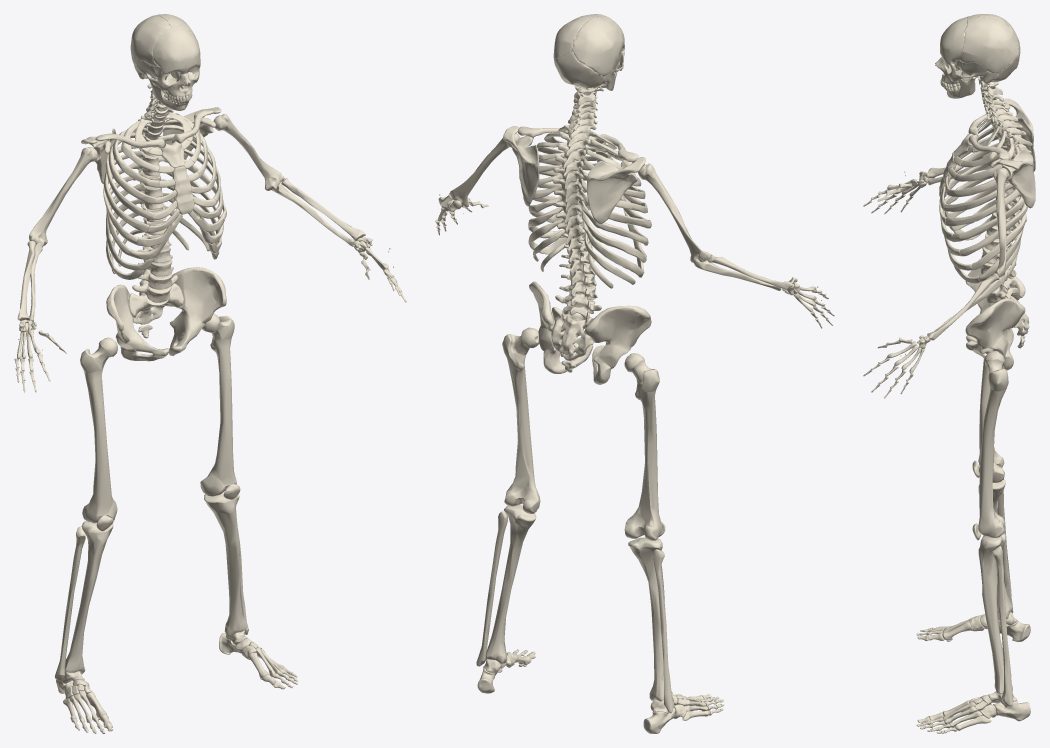
File: skeleton.glb
3 views of the same model, side by side, from view 1: azimuth 30°, elevation 25°; view 2: azimuth 150°, elevation 25°; view 3: azimuth 270°, elevation 25° (orthographic). The views are drawn at different scales.
Parts seen in each view (by area): view 1: Femur.r, Femur.l, Hip bone.l, Tibia.l, Tibia.r, Hip bone.r, Frontal bone, Parietal bone right, Humerus.r, Sacrum, Humerus.l, Fibula.r (+3 smaller); view 2: Femur.r, Femur.l, Hip bone.r, Tibia.l, Scapula.r., Parietal bone right, Tibia.r, Sacrum, Hip bone.l, Scapula.l, Humerus.r, Fibula.r (+4 smaller); view 3: Femur.l, Parietal bone left, Hip bone.l, Tibia.l, Scapula.l, Fibula.l, Humerus.l, Femur.r, Frontal bone, Hip bone.r, Scapula.r., Radius.l (+19 smaller).
Part boxes in pixels (left/top/right/bottom): Femur.r: left=80, top=337, right=117, bottom=523; Femur.l: left=200, top=314, right=236, bottom=496; Hip bone.l: left=169, top=267, right=226, bottom=355; Tibia.l: left=204, top=491, right=247, bottom=637; Tibia.r: left=65, top=521, right=113, bottom=674; Hip bone.r: left=106, top=284, right=169, bottom=361; Frontal bone: left=153, top=25, right=200, bottom=74; Parietal bone right: left=130, top=15, right=171, bottom=66; Humerus.r: left=29, top=147, right=97, bottom=247; Sacrum: left=128, top=283, right=183, bottom=324; Humerus.l: left=213, top=114, right=284, bottom=190; Fibula.r: left=55, top=526, right=85, bottom=680; Femur.r: left=624, top=353, right=662, bottom=540; Femur.l: left=502, top=327, right=540, bottom=513; Hip bone.r: left=584, top=305, right=651, bottom=384; Tibia.l: left=485, top=504, right=536, bottom=663; Scapula.r.: left=587, top=157, right=645, bottom=223; Parietal bone right: left=572, top=16, right=623, bottom=76; Tibia.r: left=628, top=537, right=672, bottom=701; Sacrum: left=551, top=307, right=593, bottom=360; Hip bone.l: left=529, top=281, right=593, bottom=373; Scapula.l: left=503, top=126, right=539, bottom=206; Humerus.r: left=638, top=163, right=710, bottom=262; Fibula.r: left=653, top=549, right=673, bottom=713; Femur.l: left=978, top=351, right=1008, bottom=537; Parietal bone left: left=960, top=16, right=1018, bottom=73; Hip bone.l: left=965, top=298, right=1025, bottom=370; Tibia.l: left=978, top=533, right=1012, bottom=693; Scapula.l: left=990, top=148, right=1035, bottom=208; Fibula.l: left=991, top=546, right=1013, bottom=706; Humerus.l: left=993, top=168, right=1009, bottom=277; Femur.r: left=978, top=352, right=1004, bottom=483; Frontal bone: left=940, top=17, right=967, bottom=64; Hip bone.r: left=965, top=267, right=1025, bottom=345; Scapula.r.: left=999, top=98, right=1035, bottom=171; Radius.l: left=927, top=273, right=999, bottom=340.
Size of the model in its own units: 6.51 by 10.92 by 2.57.
